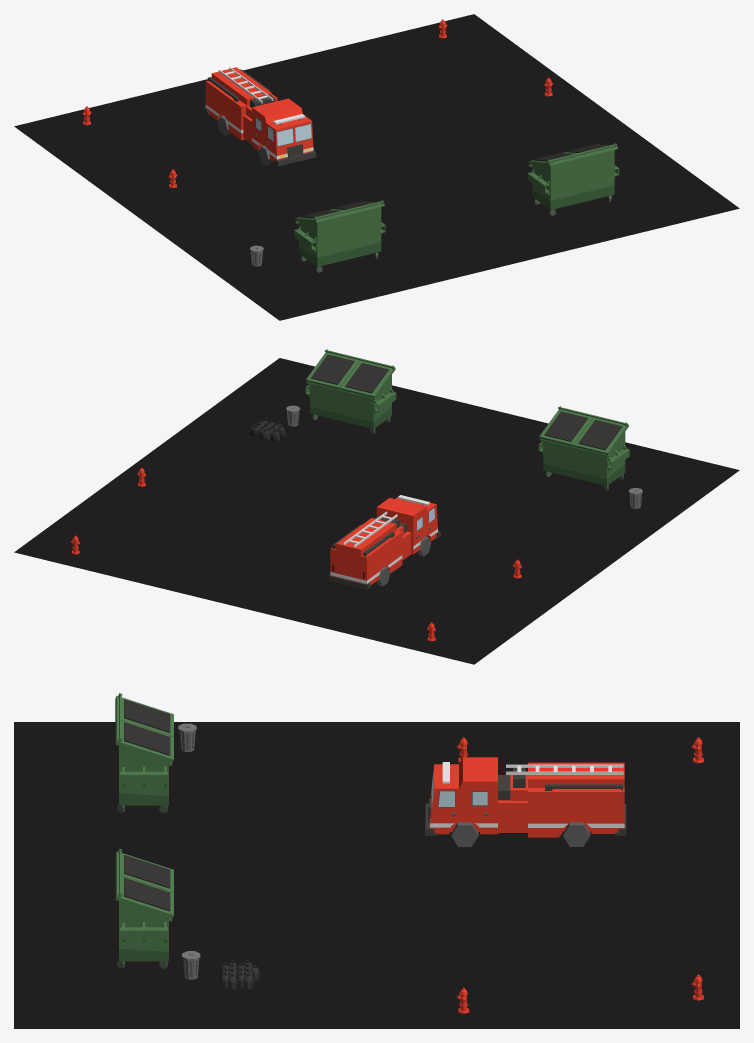
The model's file is Tile 11_Combined.fbx.
The picture shows the model from 3 angles, top to bottom: view 1: azimuth 30°, elevation 25°; view 2: azimuth 150°, elevation 25°; view 3: azimuth 270°, elevation 25°; orthographic projection. The views are drawn at different scales.
Parts seen in each view (by area): view 1: MeshBaker_Cluster_0_mesh_mesh; view 2: MeshBaker_Cluster_0_mesh_mesh; view 3: MeshBaker_Cluster_0_mesh_mesh.
Part boxes in pixels (left/top/right/bottom): MeshBaker_Cluster_0_mesh_mesh: left=14, top=14, right=739, bottom=320; MeshBaker_Cluster_0_mesh_mesh: left=14, top=349, right=739, bottom=664; MeshBaker_Cluster_0_mesh_mesh: left=14, top=693, right=739, bottom=1028.
Size of the model in its own units: 3000 by 360 by 3000.
